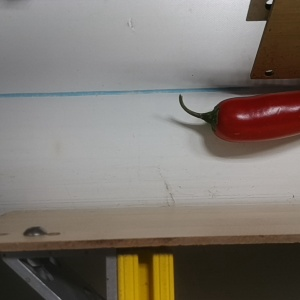Cut Point: (205, 98, 233, 141)
